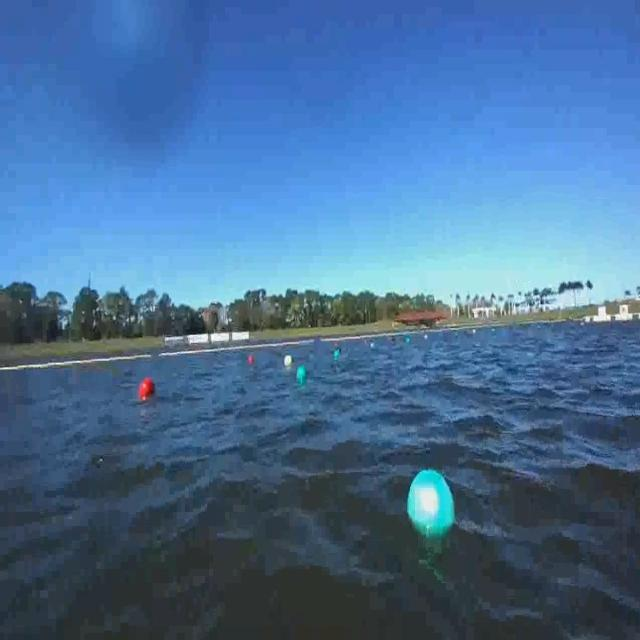green-buoy: (405, 466, 456, 545), (297, 364, 306, 380)
red-buoy: (139, 374, 157, 398)
yellow-buoy: (284, 353, 292, 368)
